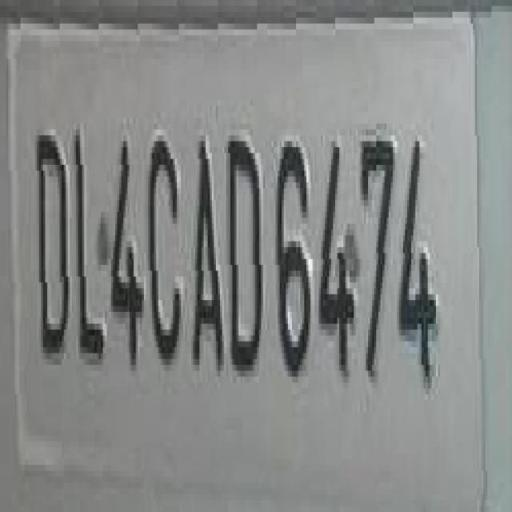number plate: (20, 24, 512, 482)
